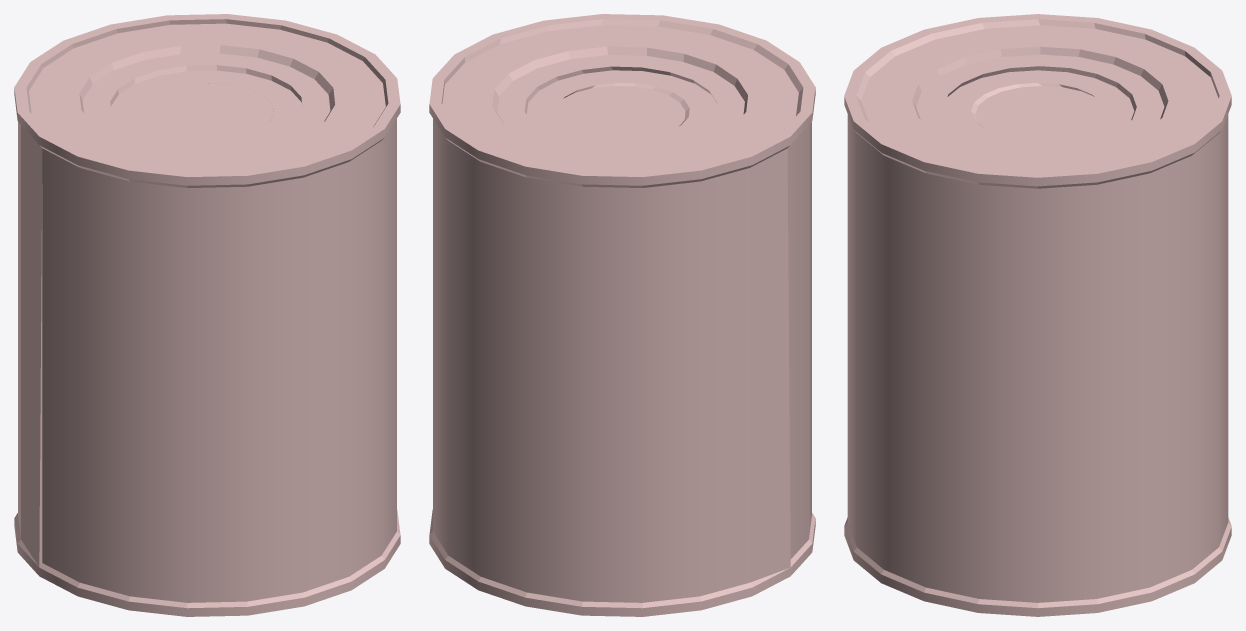
Rendered from condensedmilkcan.fbx.
3 renders of one model, left to right at view 1: azimuth 30°, elevation 25°; view 2: azimuth 150°, elevation 25°; view 3: azimuth 270°, elevation 25°, orthographic.
Visible parts, largest first — view 1: pCylinder1; view 2: pCylinder1; view 3: pCylinder1.
Boxes of the visible parts, <box> form: pCylinder1: <box>14,14,400,616</box>; pCylinder1: <box>429,14,815,616</box>; pCylinder1: <box>844,14,1231,616</box>.
Bounding box in the file's own units: 16 × 20 × 16.
